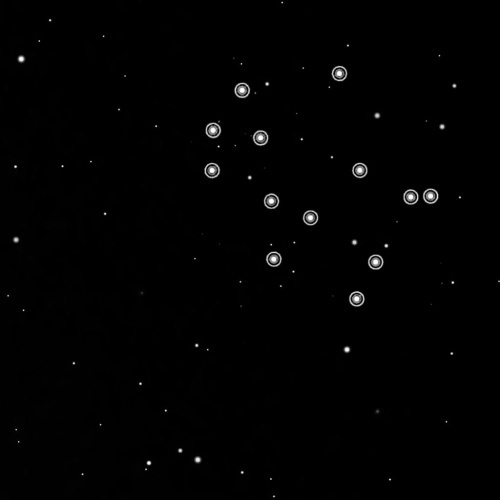gemini: (196, 59, 446, 312)
